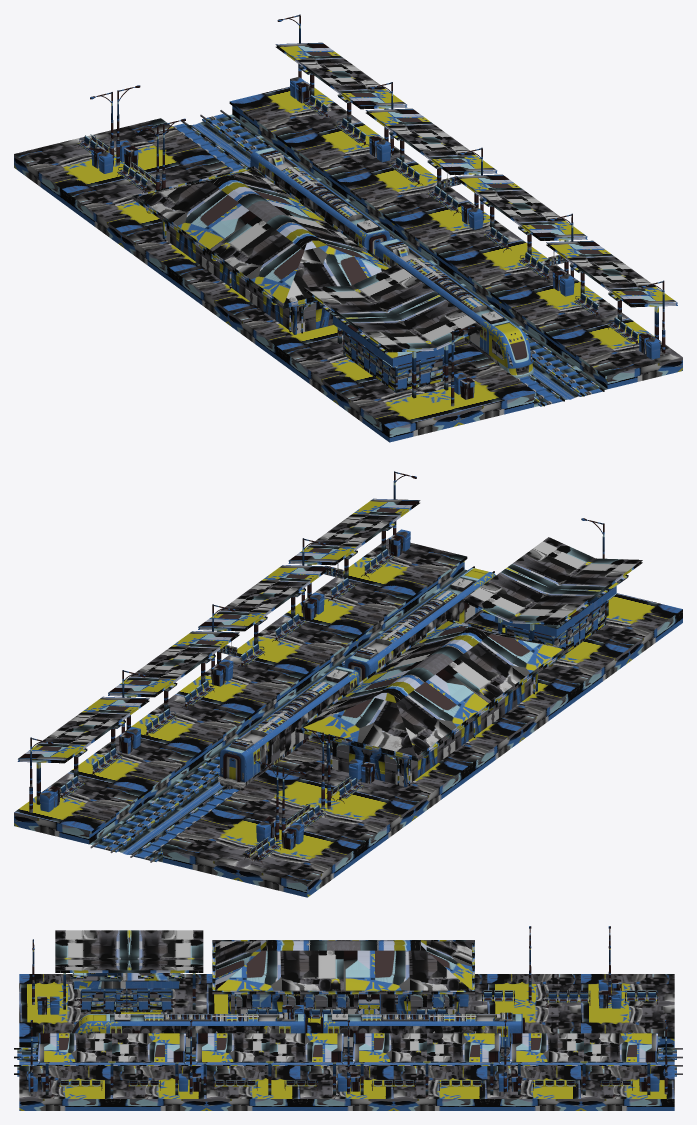
Rendered from train_ride.fbx.
The picture shows the model from 3 angles, top to bottom: view 1: azimuth 30°, elevation 25°; view 2: azimuth 150°, elevation 25°; view 3: azimuth 270°, elevation 25°; orthographic projection. The views are drawn at different scales.
Visible parts, largest first — view 1: Platform top.001, Platform top.002, Station roof, Waiting shed roof, Platform Bottom, Platform Bottom.001, Waiting shed post.001, Waiting shed post.004, Waiting shed post.002, Waiting shed post.003, Track rocks.001, Main station (+13 smaller); view 2: Platform top.002, Platform top.001, Station roof, Waiting shed roof, Platform Bottom, Platform Bottom.001, Waiting shed post.004, Main station, Waiting shed post.001, Waiting shed post.003, Waiting shed post.002, Track rocks.001 (+13 smaller); view 3: Platform top.001, Platform top.002, Station roof, Platform Bottom.001, Waiting shed roof, Waiting shed post.001, Waiting shed post.003, Waiting shed post.002, Waiting shed post.004, Main station, Track rocks, Station roof.001 (+24 smaller).
Part boxes in pixels (bbox=[...]): Platform top.001: bbox=[230, 82, 682, 375]; Platform top.002: bbox=[14, 118, 535, 428]; Station roof: bbox=[137, 168, 388, 303]; Waiting shed roof: bbox=[303, 264, 482, 352]; Platform Bottom: bbox=[14, 154, 536, 442]; Platform Bottom.001: bbox=[229, 101, 682, 388]; Waiting shed post.001: bbox=[546, 240, 677, 339]; Waiting shed post.004: bbox=[275, 42, 407, 141]; Waiting shed post.002: bbox=[455, 174, 587, 274]; Waiting shed post.003: bbox=[365, 108, 497, 207]; Track rocks.001: bbox=[195, 114, 607, 399]; Main station: bbox=[166, 224, 333, 333]; Platform top.002: bbox=[161, 593, 682, 883]; Platform top.001: bbox=[14, 537, 466, 831]; Station roof: bbox=[302, 621, 562, 756]; Waiting shed roof: bbox=[464, 537, 642, 624]; Platform Bottom: bbox=[160, 609, 682, 897]; Platform Bottom.001: bbox=[14, 557, 467, 844]; Waiting shed post.004: bbox=[17, 696, 149, 804]; Main station: bbox=[330, 675, 535, 786]; Waiting shed post.001: bbox=[288, 498, 420, 598]; Waiting shed post.003: bbox=[108, 631, 239, 729]; Waiting shed post.002: bbox=[198, 565, 329, 664]; Track rocks.001: bbox=[89, 569, 466, 854]; Platform top.001: bbox=[19, 1066, 674, 1098]; Platform top.002: bbox=[19, 974, 674, 1036]; Station roof: bbox=[215, 941, 471, 990]; Platform Bottom.001: bbox=[19, 1099, 674, 1110]; Waiting shed roof: bbox=[55, 930, 203, 972]; Waiting shed post.001: bbox=[38, 1033, 185, 1095]; Waiting shed post.003: bbox=[353, 1033, 500, 1094]; Waiting shed post.002: bbox=[195, 1033, 343, 1095]; Waiting shed post.004: bbox=[510, 1033, 657, 1095]; Main station: bbox=[231, 994, 456, 1017]; Track rocks: bbox=[19, 1047, 674, 1064]; Station roof.001: bbox=[212, 940, 474, 994].
Size of the model in its own units: 3855 by 1097 by 8558.
4 materials, 4 textured.
